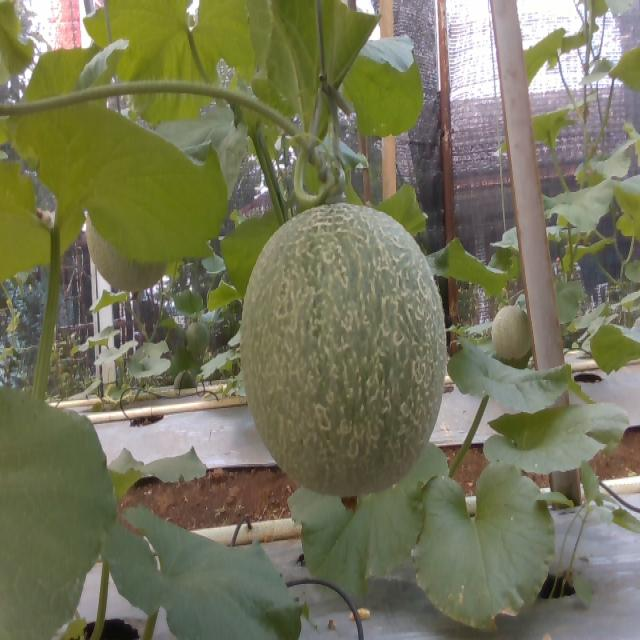melon: (242, 203, 447, 497)
